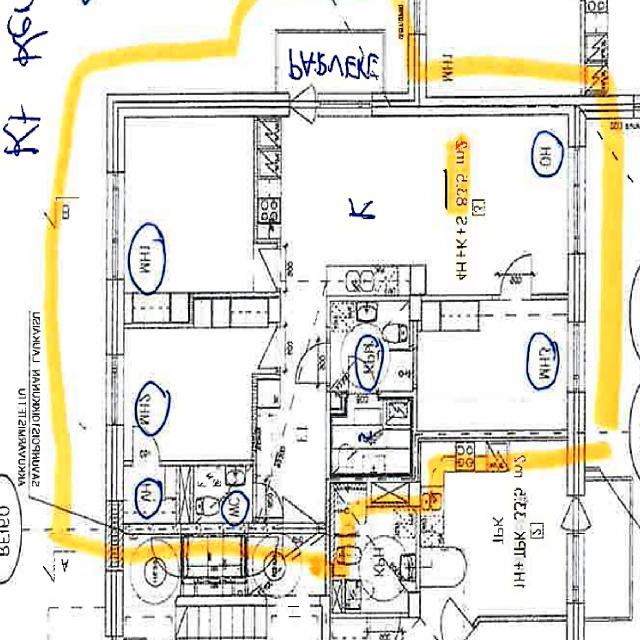door: (282, 524, 317, 581), (282, 479, 317, 535), (501, 253, 532, 301), (290, 93, 316, 149), (290, 59, 316, 115), (348, 352, 378, 400), (296, 344, 330, 383), (247, 331, 281, 370), (247, 250, 280, 290), (252, 484, 283, 519), (133, 426, 159, 466)
